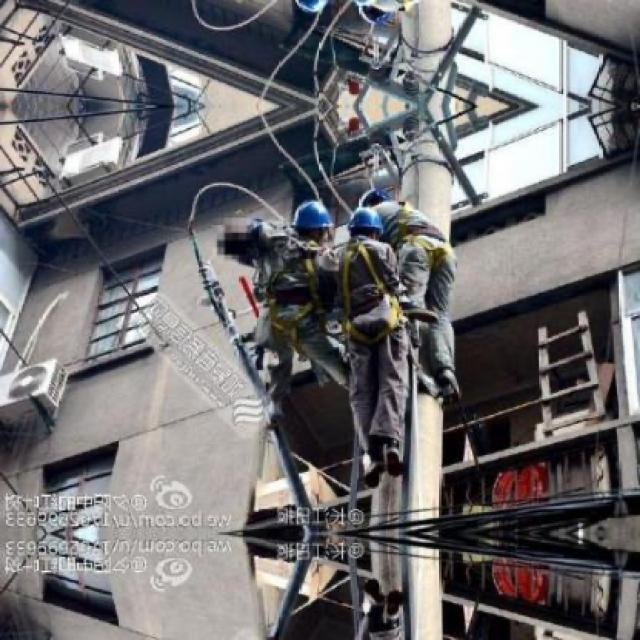helmet: (292, 198, 336, 245), (349, 205, 383, 242), (358, 184, 394, 212), (358, 2, 394, 30), (291, 0, 335, 17), (348, 0, 384, 9)
